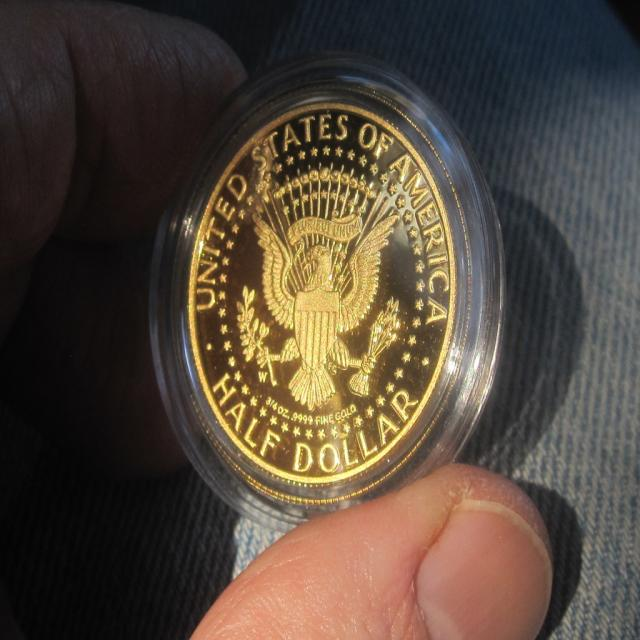Coin: (182, 103, 458, 487)
